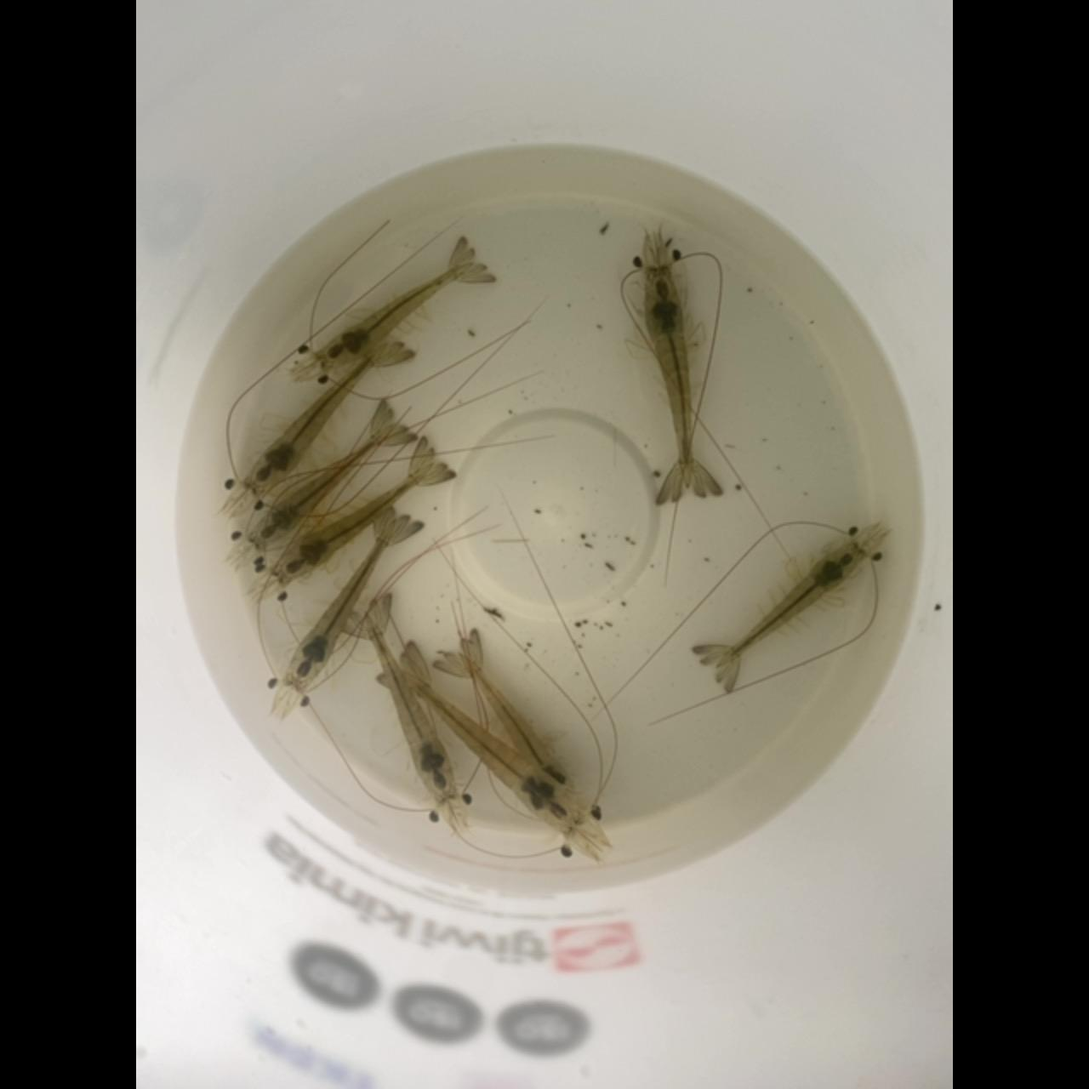top_shrimp: (400, 669, 584, 835), (244, 341, 389, 494), (273, 462, 435, 582), (285, 519, 396, 690), (715, 546, 866, 669), (249, 425, 396, 549), (364, 608, 457, 803), (317, 261, 476, 372), (459, 654, 575, 802), (643, 268, 694, 491)
